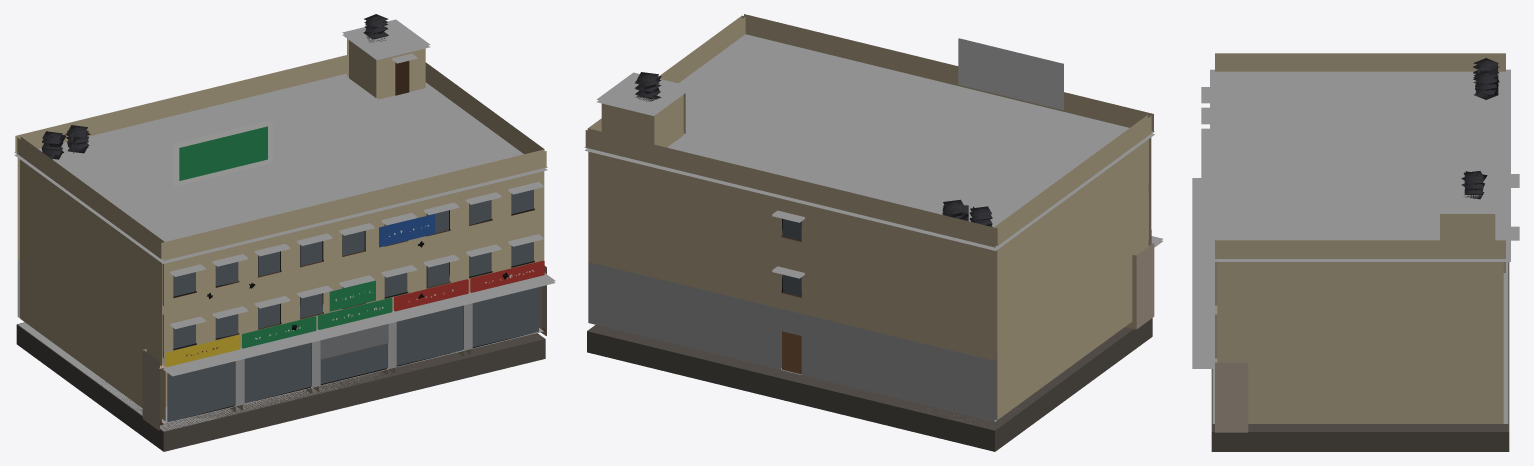
File: commercial_24x16_3_far.glb
The picture shows the model from 3 angles, left to right: view 1: azimuth 30°, elevation 25°; view 2: azimuth 150°, elevation 25°; view 3: azimuth 270°, elevation 25°; orthographic projection. The views are drawn at different scales.
Parts seen in each view (by area): view 1: commercial_24x16_3; view 2: commercial_24x16_3; view 3: commercial_24x16_3.
Boxes of the visible parts, box(x1,y1,x2,y2) form: commercial_24x16_3: box(14, 14, 555, 451); commercial_24x16_3: box(584, 14, 1162, 451); commercial_24x16_3: box(1192, 53, 1519, 451).
Size of the model in its own units: 24.5 by 16.3 by 17.71.
